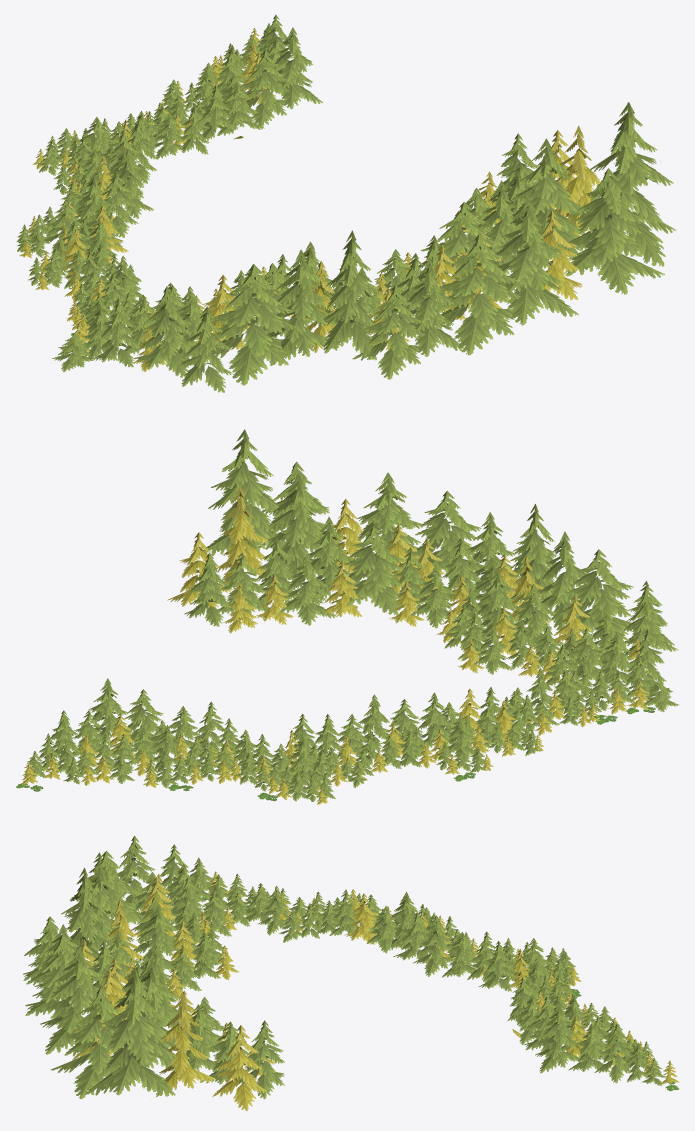
Rendered from area_02_9.FBX.
3 views of the same model, one above another, from view 1: azimuth 30°, elevation 25°; view 2: azimuth 150°, elevation 25°; view 3: azimuth 270°, elevation 25° (orthographic). The views are drawn at different scales.
Parts seen in each view (by area): view 1: area_02_9; view 2: area_02_9; view 3: area_02_9.
Part boxes in pixels (box(x1,y1,x2,y2)): area_02_9: box(16, 15, 676, 392); area_02_9: box(16, 429, 679, 804); area_02_9: box(23, 835, 679, 1111).
Size of the model in its own units: 111 by 30.63 by 128.
